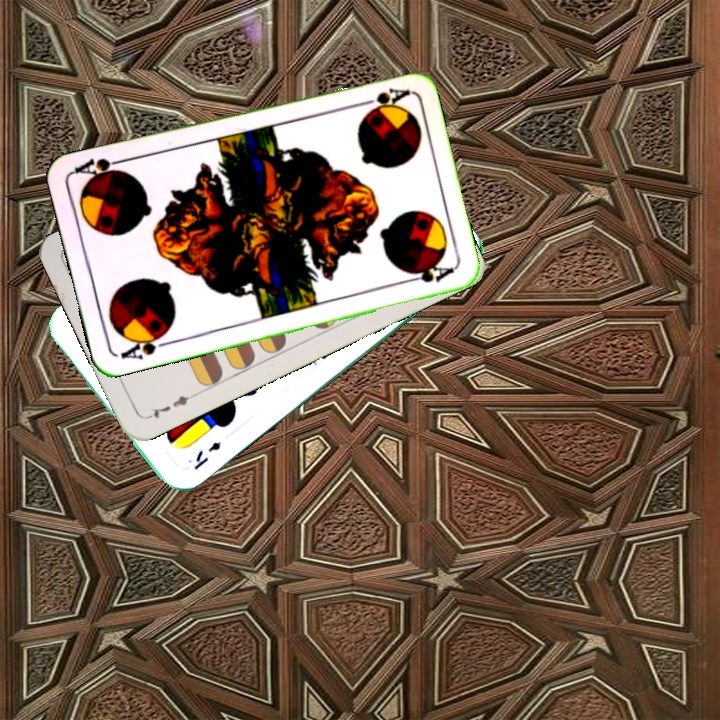E7: (143, 389, 199, 422)
EK: (190, 437, 224, 472)
SA: (116, 327, 174, 362), (352, 84, 411, 114)
